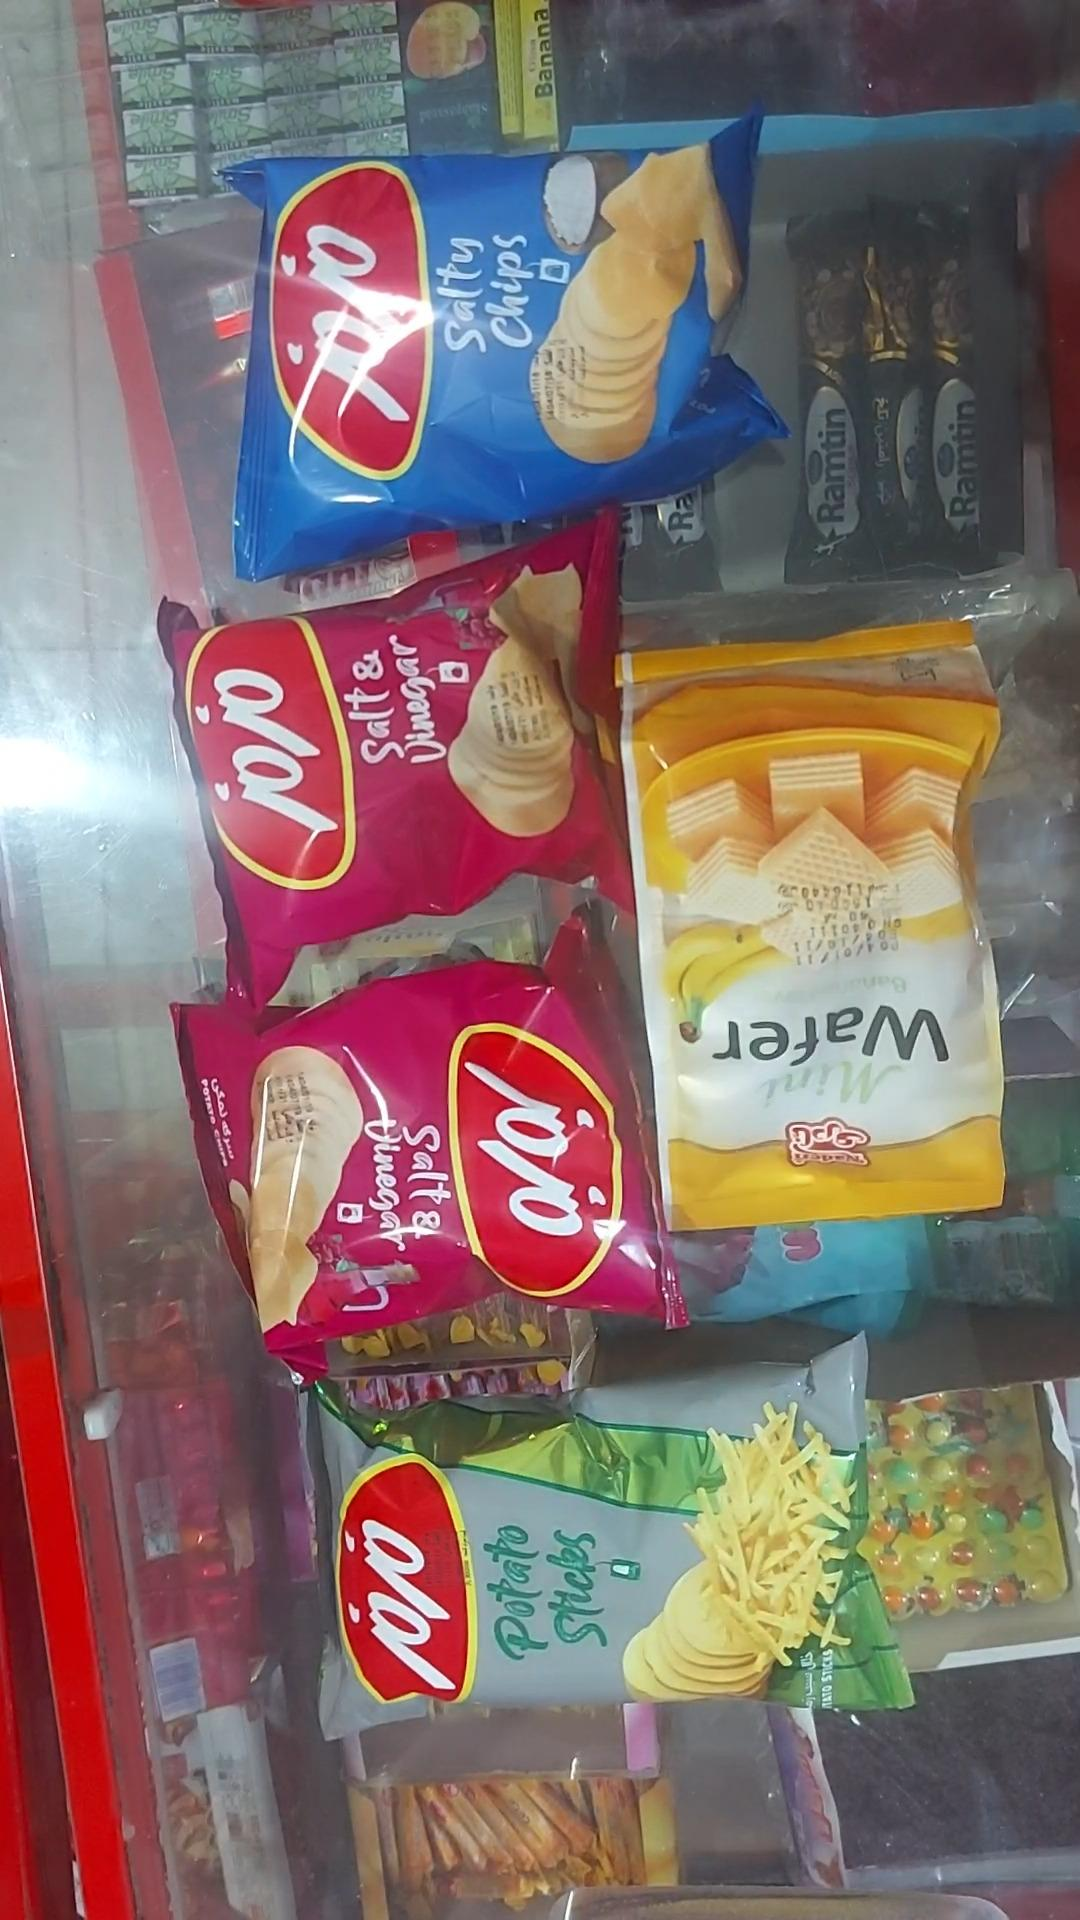Maz Maz potato sticks: (297, 1320, 923, 1742)
Maz Maz salty chips: (214, 95, 800, 587)
Maz Maz vinegar chips: (165, 901, 698, 1396), (152, 508, 637, 1021)
Naderi mini wafer: (615, 622, 1006, 1236)
